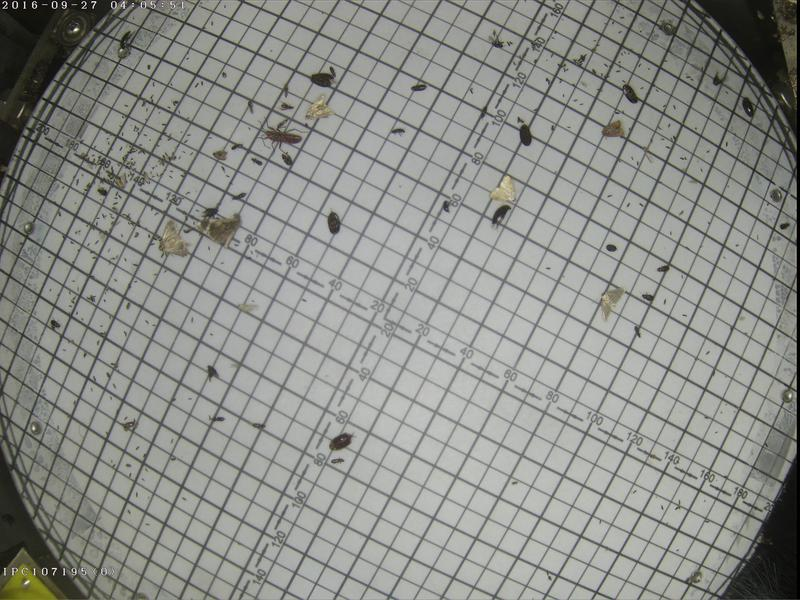Meadow borer: (487, 171, 515, 202), (302, 94, 333, 117)
